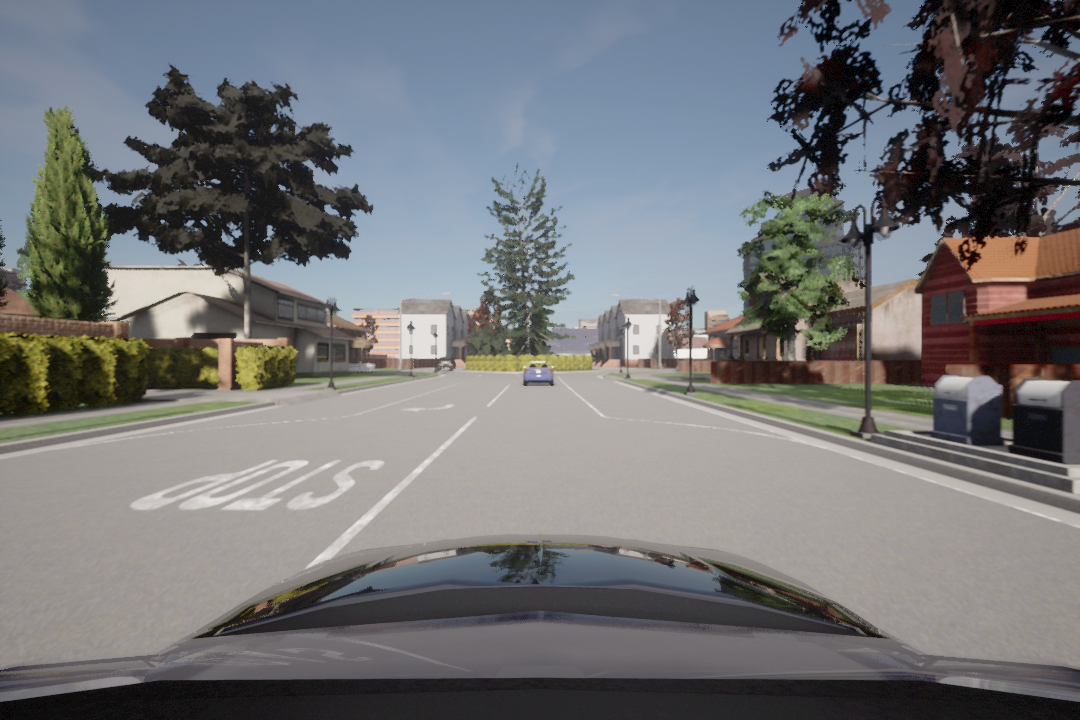RoadSign_right: (397, 398, 464, 418)
